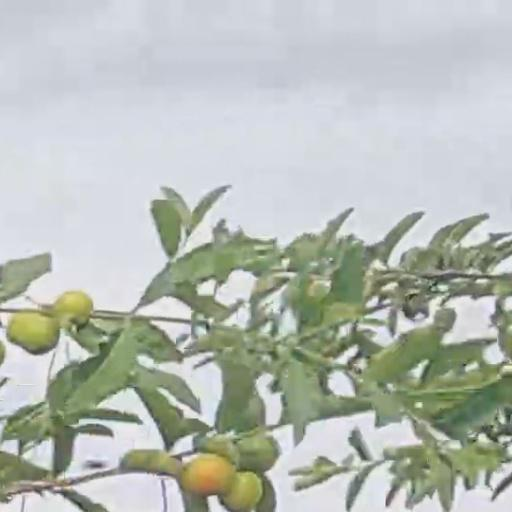acerola_verde: (10, 317, 59, 352), (227, 472, 261, 510), (57, 292, 88, 314)
acerola_vermelha: (184, 453, 225, 497)
